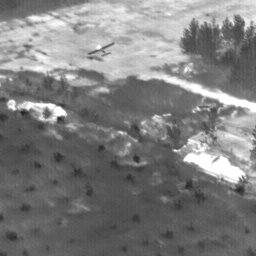aircraft: (98, 46, 100, 48)
